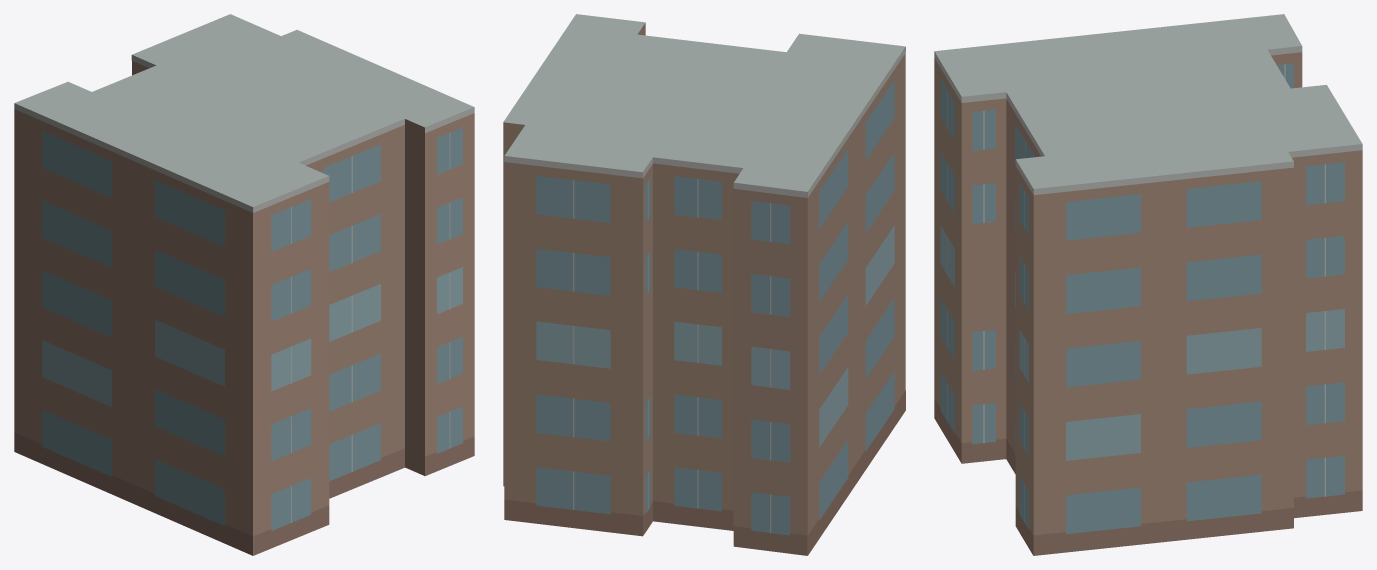
File: survey-upis-32717607.glb
3 renders of one model, left to right at view 1: azimuth 30°, elevation 25°; view 2: azimuth 150°, elevation 25°; view 3: azimuth 270°, elevation 25°, orthographic. The views are drawn at different scales.
Visible parts, largest first — view 1: survey-upis-32717607.tmp; view 2: survey-upis-32717607.tmp; view 3: survey-upis-32717607.tmp.
Part boxes in pixels (x1=…): survey-upis-32717607.tmp: x1=14, y1=14, x2=474, y2=555; survey-upis-32717607.tmp: x1=503, y1=14, x2=905, y2=555; survey-upis-32717607.tmp: x1=934, y1=14, x2=1362, y2=555.
Size of the model in its own units: 14.9 by 14.55 by 15.41.
